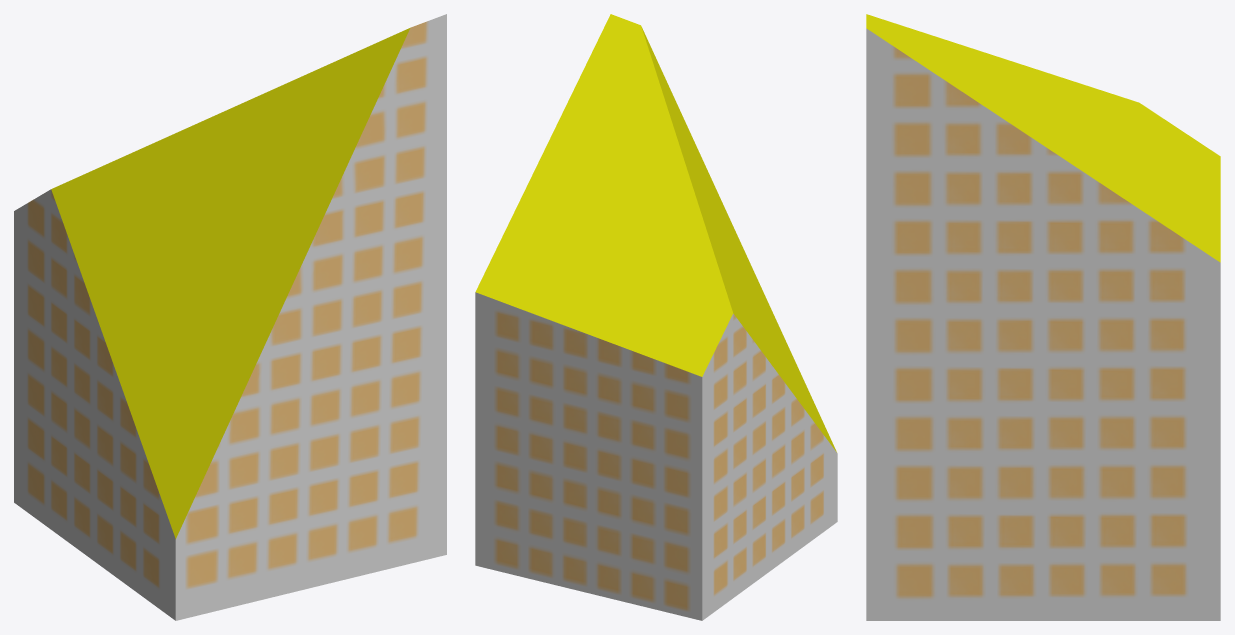
File: st1Shard5.fbx
The picture shows the model from 3 angles, left to right: view 1: azimuth 30°, elevation 25°; view 2: azimuth 150°, elevation 25°; view 3: azimuth 270°, elevation 25°; orthographic projection. The views are drawn at different scales.
Parts seen in each view (by area): view 1: shard50; view 2: shard50; view 3: shard50.
Boxes of the visible parts, bbox=[...] form: shard50: bbox=[14, 14, 446, 620]; shard50: bbox=[475, 14, 837, 620]; shard50: bbox=[866, 14, 1220, 620].
Bounding box in the file's own units: 0.0992 × 0.1891 × 0.1025.
Materials: 2 (1 with a texture image).
